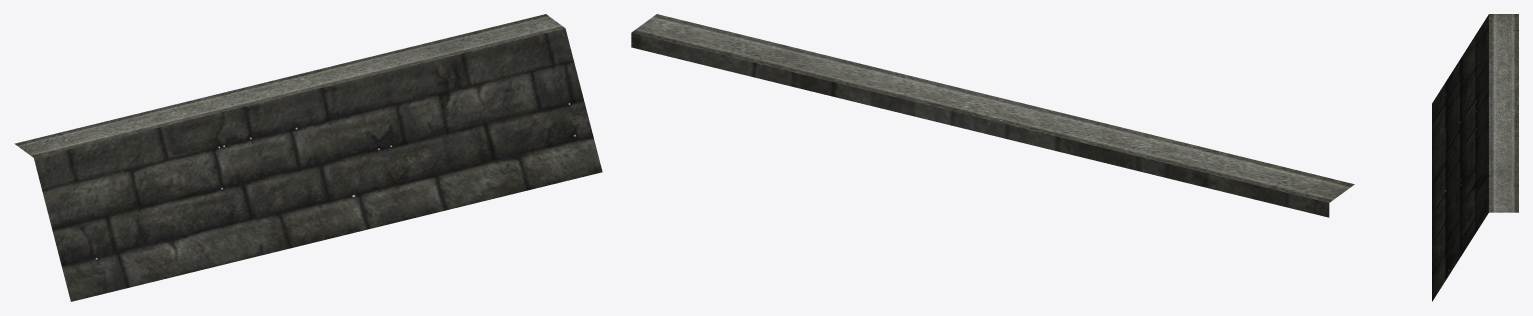
Rendered from stadium_01_03.glb.
3 renders of one model, left to right at view 1: azimuth 30°, elevation 25°; view 2: azimuth 150°, elevation 25°; view 3: azimuth 270°, elevation 25°, orthographic. The views are drawn at different scales.
Visible parts, largest first — view 1: stadium_01_03; view 2: stadium_01_03; view 3: stadium_01_03.
Boxes of the visible parts, <box> form: stadium_01_03: <box>14,14,602,301</box>; stadium_01_03: <box>631,14,1354,217</box>; stadium_01_03: <box>1432,14,1518,301</box>.
Size of the model in its own units: 18 by 3.78 by 3.32.
1 material, 1 textured.
